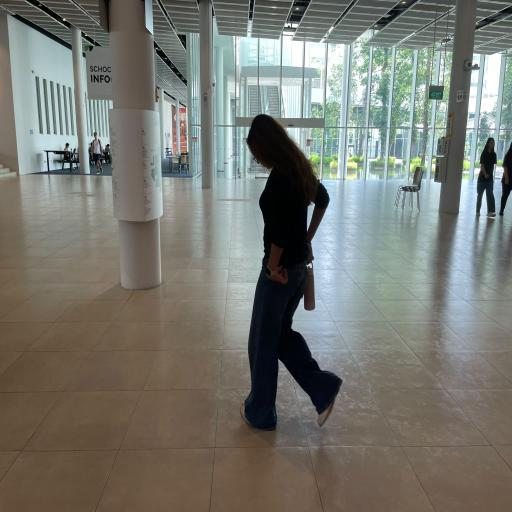person_left: (230, 113, 340, 435)
